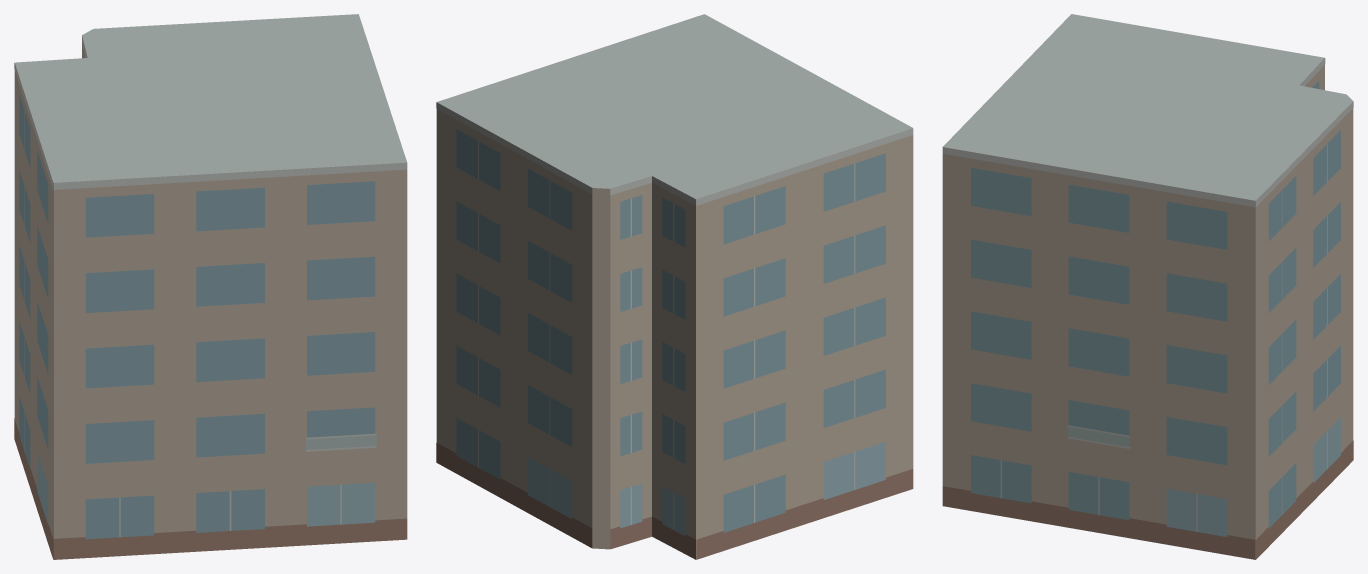
Rendered from survey-upis-32704082.glb.
The picture shows the model from 3 angles, left to right: view 1: azimuth 30°, elevation 25°; view 2: azimuth 150°, elevation 25°; view 3: azimuth 270°, elevation 25°; orthographic projection. The views are drawn at different scales.
Parts seen in each view (by area): view 1: survey-upis-32704082.tmp; view 2: survey-upis-32704082.tmp; view 3: survey-upis-32704082.tmp.
Part boxes in pixels (x1=…): survey-upis-32704082.tmp: x1=14, y1=14, x2=407, y2=559; survey-upis-32704082.tmp: x1=436, y1=14, x2=913, y2=559; survey-upis-32704082.tmp: x1=942, y1=14, x2=1353, y2=559.
Bounding box in the file's own units: 14.74 × 13.2 × 13.7.
